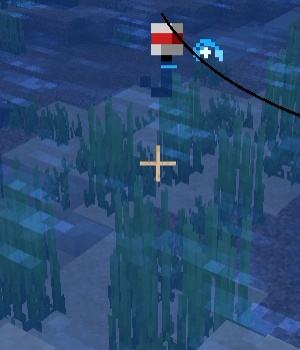up: (141, 18, 186, 101)
